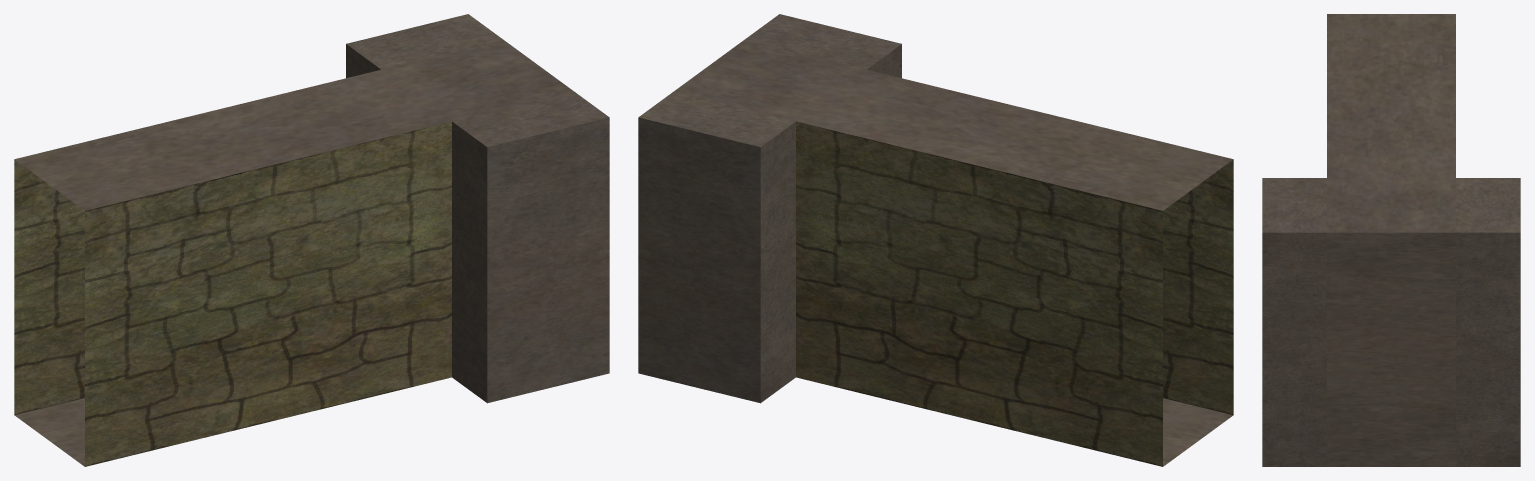
Rendered from WallSection.fbx.
3 views of the same model, side by side, from view 1: azimuth 30°, elevation 25°; view 2: azimuth 150°, elevation 25°; view 3: azimuth 270°, elevation 25° (orthographic). The views are drawn at different scales.
Visible parts, largest first — view 1: Cube_011; view 2: Cube_011; view 3: Cube_011.
Boxes of the visible parts, x1,y1,x2,y2 form: Cube_011: [14, 14, 609, 466]; Cube_011: [638, 14, 1233, 466]; Cube_011: [1262, 14, 1520, 466].
Size of the model in its own units: 400 by 200 by 200.
